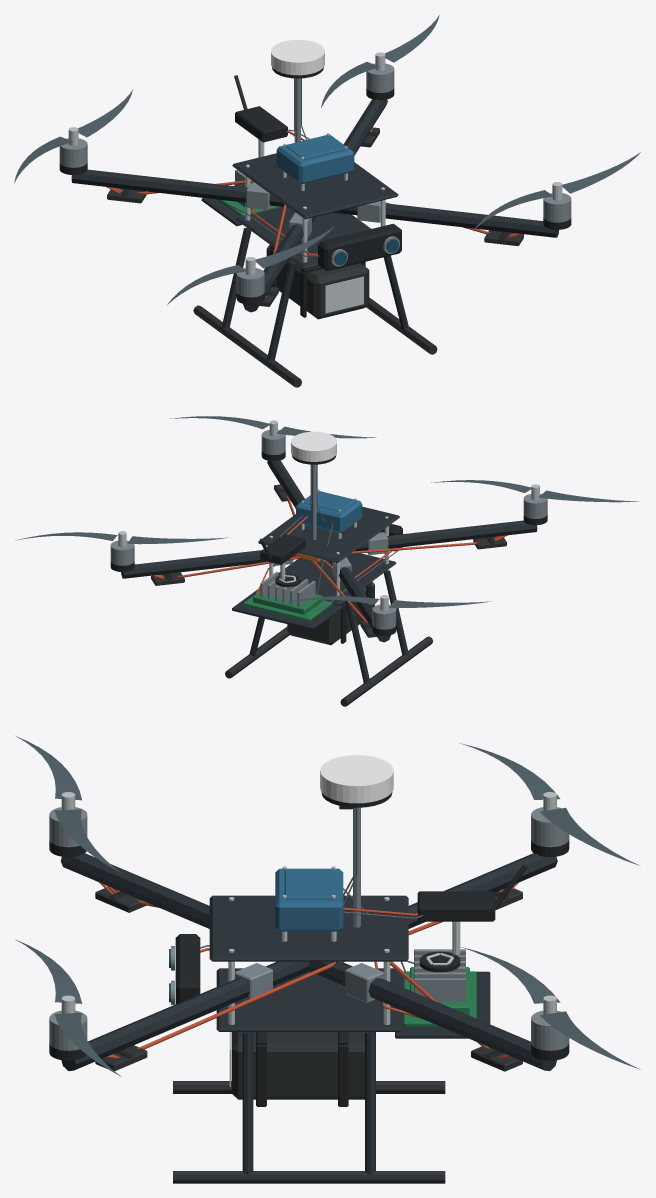
The picture shows the model from 3 angles, top to bottom: view 1: azimuth 30°, elevation 25°; view 2: azimuth 150°, elevation 25°; view 3: azimuth 270°, elevation 25°; orthographic projection. The views are drawn at different scales.
Visible parts, largest first — view 1: frame_top_plate, frame_arm_2, frame_arm_1, frame_lower_plate, battery, camera, pixhawk, gnss_puck, frame_landing_skid_1, rfd900x_box, battery_label, propeller_3 (+15 smaller); view 2: frame_top_plate, frame_lower_plate, frame_arm_3, frame_arm_4, pixhawk, battery, gnss_puck, frame_rear_tray, frame_landing_skid_1, rfd900x_box, propeller_2, propeller_4 (+15 smaller); view 3: frame_top_plate, frame_lower_plate, battery, frame_arm_4, frame_arm_1, frame_landing_skid_2, frame_arm_3, gnss_puck, pixhawk, rfd900x_box, frame_arm_2, propeller_4 (+23 smaller).
Part boxes in pixels (x1,y1,x2,y2): frame_top_plate: (232,153,398,219); frame_arm_2: (71,169,288,207); frame_arm_1: (333,203,558,237); frame_lower_plate: (236,207,370,269); battery: (266,245,369,319); camera: (318,223,401,270); pixhawk: (276,134,354,184); gnss_puck: (271,39,324,75); frame_landing_skid_1: (193,305,301,387); rfd900x_box: (235,106,287,142); battery_label: (325,276,363,313); propeller_3: (166,227,333,305); frame_top_plate: (258,506,399,562); frame_lower_plate: (278,553,396,605); frame_arm_3: (354,520,537,551); frame_arm_4: (121,550,302,578); pixhawk: (296,491,362,532); battery: (287,581,374,645); gnss_puck: (291,431,336,461); frame_rear_tray: (232,589,342,630); frame_landing_skid_1: (340,636,433,706); rfd900x_box: (260,534,305,564); propeller_2: (278,596,491,607); propeller_4: (15,532,230,544); frame_top_plate: (209,895,408,961); frame_lower_plate: (216,968,401,1031); battery: (231,1032,365,1099); frame_arm_4: (309,961,556,1070); frame_arm_1: (61,961,309,1071); frame_landing_skid_2: (173,1171,445,1183); frame_arm_3: (61,853,209,928); gnss_puck: (320,755,393,803); pixhawk: (275,868,343,931); rfd900x_box: (417,891,495,921); frame_arm_2: (408,853,557,928); propeller_4: (461,947,640,1069).
Size of the model in its own units: 0.5947 by 0.298 by 0.461.
